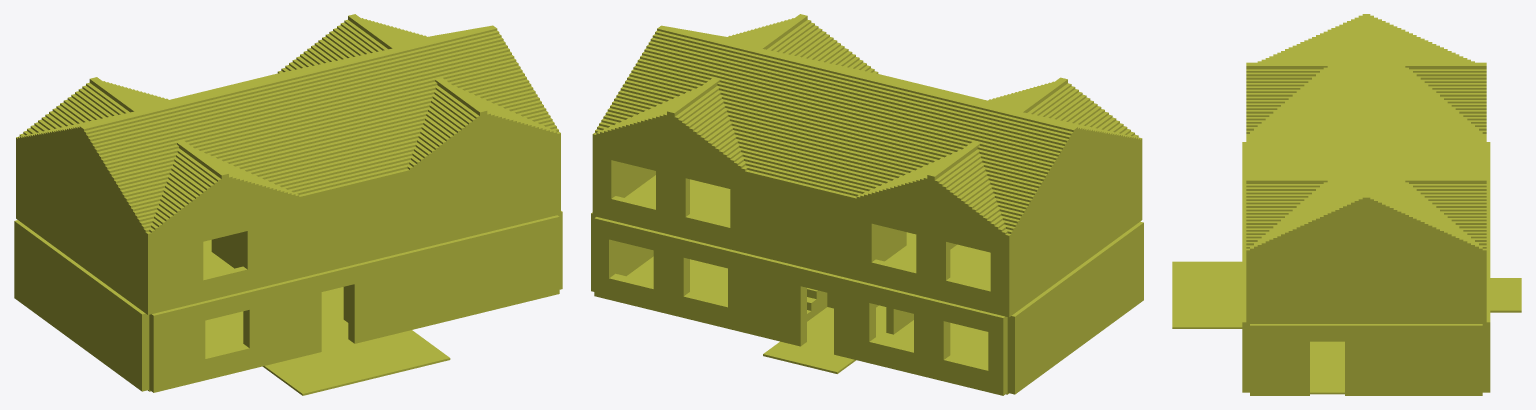
File: Level3Simple.obj
3 renders of one model, left to right at view 1: azimuth 30°, elevation 25°; view 2: azimuth 150°, elevation 25°; view 3: azimuth 270°, elevation 25°, orthographic. The views are drawn at different scales.
Bounding box in the file's own units: 22.8 × 11.3 × 18.
Materials: 1 (1 with a texture image).
